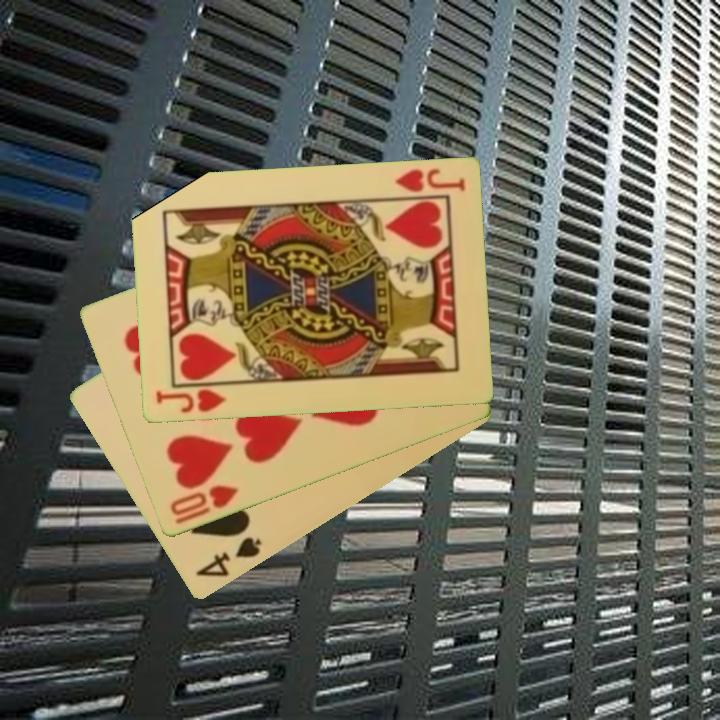10h: (166, 482, 241, 528)
4s: (191, 533, 265, 581)
Jh: (391, 165, 467, 196), (152, 386, 228, 416)
